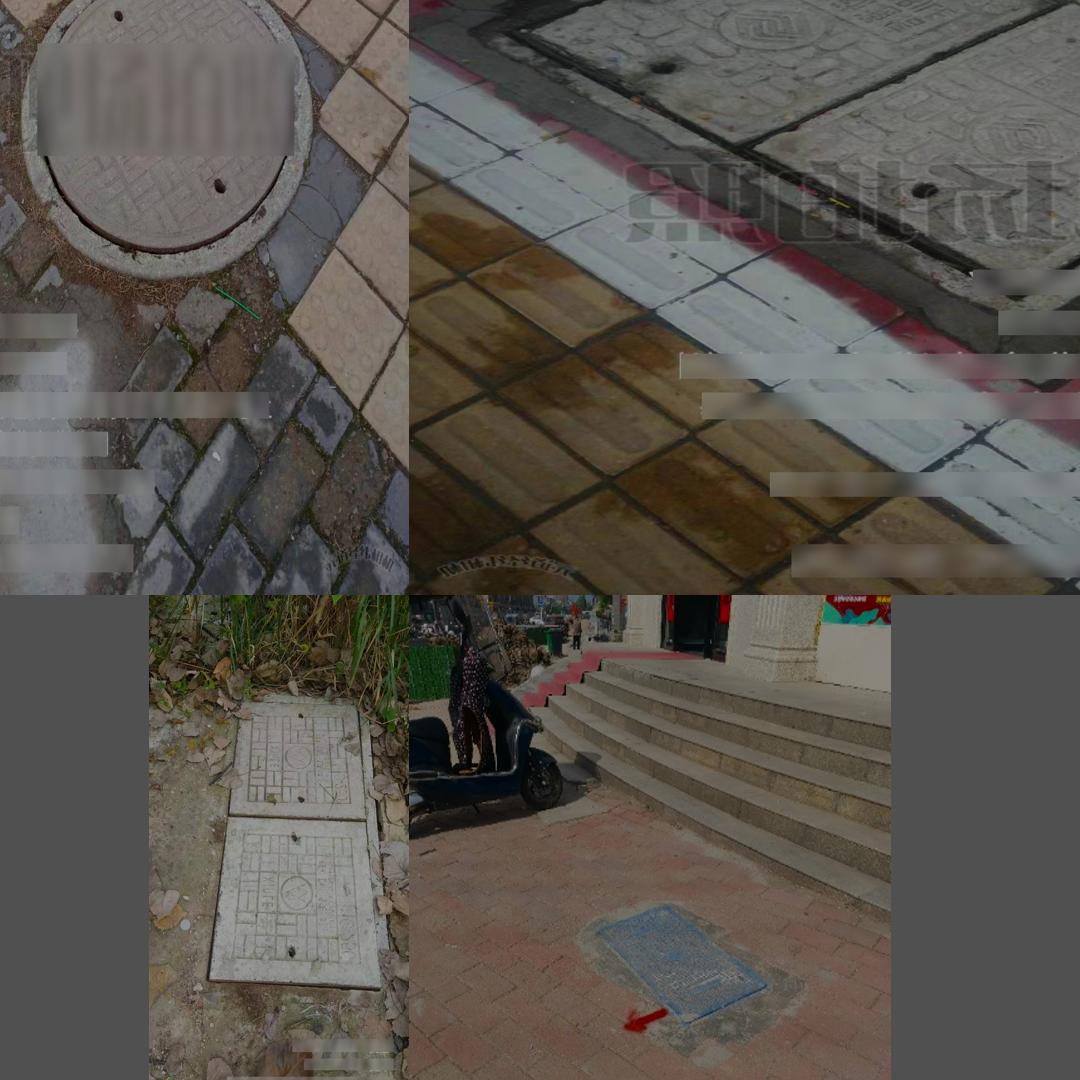good: (580, 0, 1080, 268), (19, 0, 311, 281), (205, 694, 383, 987), (596, 904, 770, 1024)
